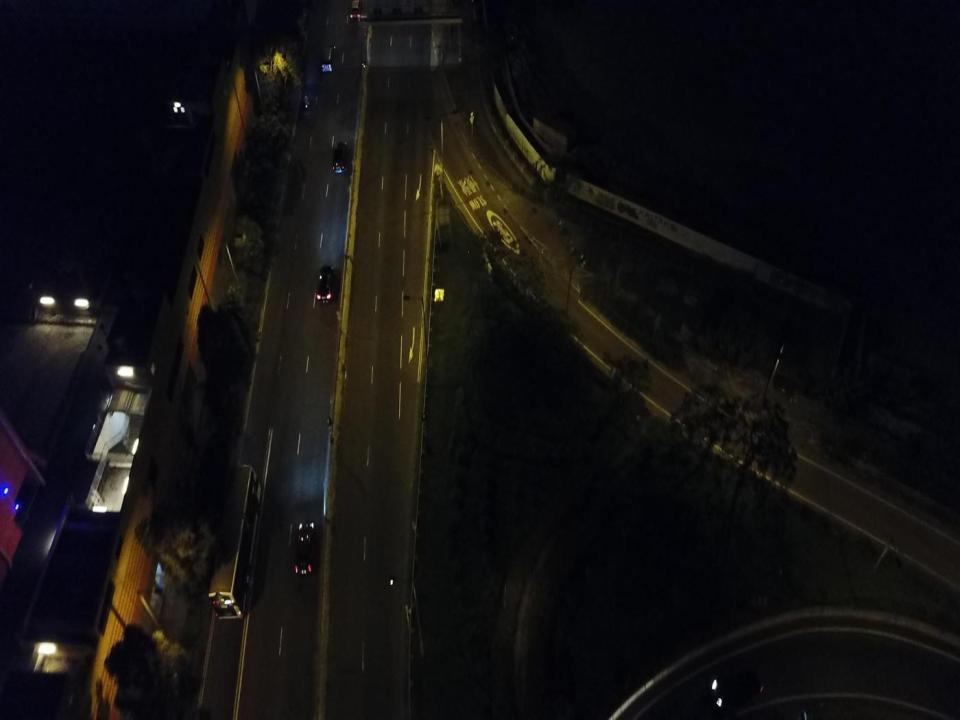bus: (207, 465, 260, 620)
car: (711, 671, 763, 709), (295, 522, 315, 576), (317, 266, 334, 303), (332, 144, 346, 174), (322, 46, 334, 72), (350, 0, 360, 20)
